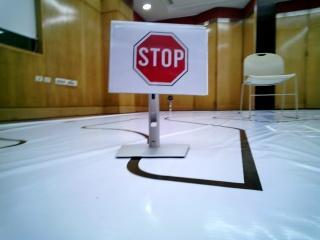stop: (119, 22, 210, 96)
